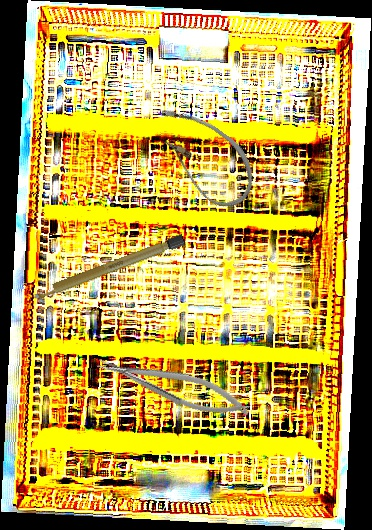Cannula: (135, 96, 270, 217)
Needle Holder: (93, 342, 255, 429)
Scalpel Handle: (30, 233, 186, 303)
